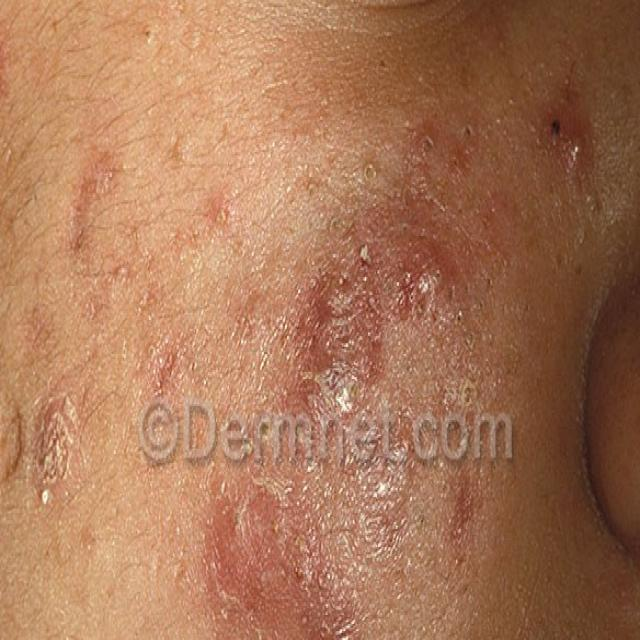Acne: (322, 117, 505, 393), (192, 434, 373, 640), (279, 281, 350, 427), (28, 370, 80, 549), (541, 90, 610, 223), (67, 140, 124, 282), (445, 453, 480, 557), (137, 350, 190, 408), (196, 201, 236, 268), (0, 20, 28, 111)
